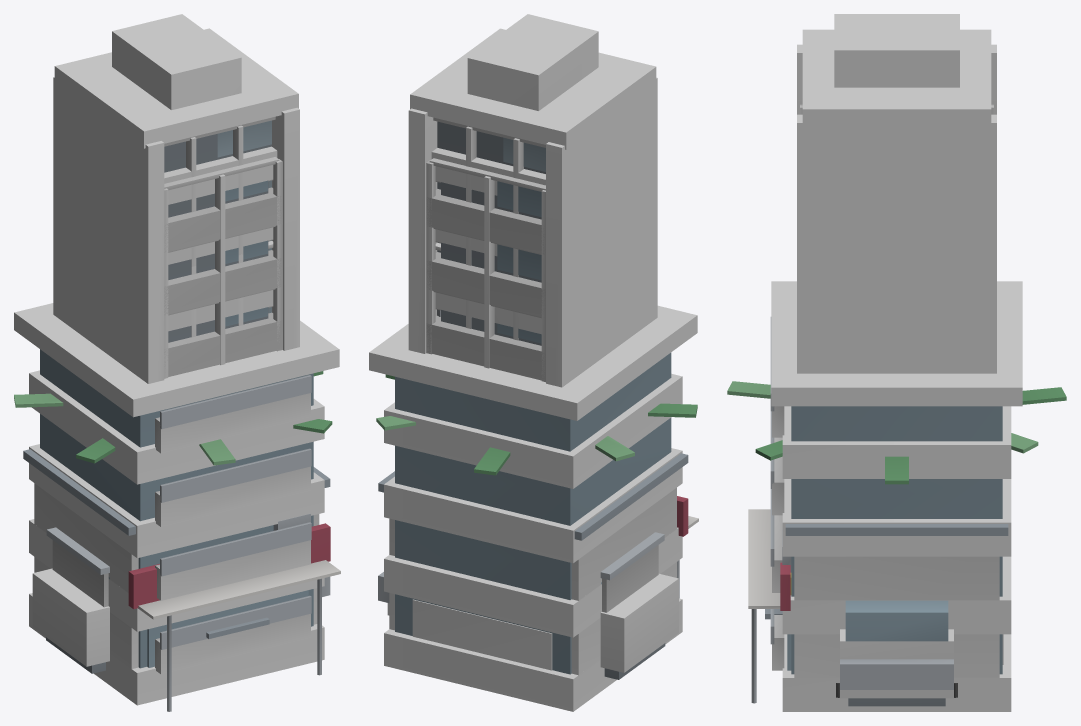
File: kit.glb
3 renders of one model, left to right at view 1: azimuth 30°, elevation 25°; view 2: azimuth 150°, elevation 25°; view 3: azimuth 270°, elevation 25°, orthographic. The views are drawn at different scales.
Parts seen in each view (by area): view 1: mid_a, sky_c, sky_b, shop_a, jeep, sky_a, palm2; view 2: mid_a, sky_c, sky_b, jeep, shop_a, sky_a, palm2; view 3: sky_c, mid_a, shop_a, jeep, sky_b, palm2, sky_a.
Part boxes in pixels (x1,y1,x2,y2): mid_a: [14, 303, 339, 705]; sky_c: [53, 14, 299, 638]; sky_b: [54, 28, 298, 336]; shop_a: [23, 449, 340, 711]; jeep: [32, 527, 330, 673]; sky_a: [133, 25, 273, 337]; palm2: [14, 371, 332, 465]; mid_a: [369, 305, 697, 711]; sky_c: [408, 14, 657, 670]; sky_b: [410, 28, 656, 340]; jeep: [378, 532, 678, 679]; shop_a: [378, 453, 698, 675]; sky_a: [435, 25, 577, 334]; palm2: [376, 374, 697, 475]; sky_c: [765, 14, 1003, 664]; mid_a: [770, 281, 1022, 711]; shop_a: [748, 509, 1008, 703]; jeep: [836, 600, 957, 706]; sky_b: [802, 29, 991, 127]; palm2: [727, 381, 1066, 484]; sky_a: [862, 17, 931, 46].
Bounding box in the file's own units: 5.79 × 12.2 × 5.94.
